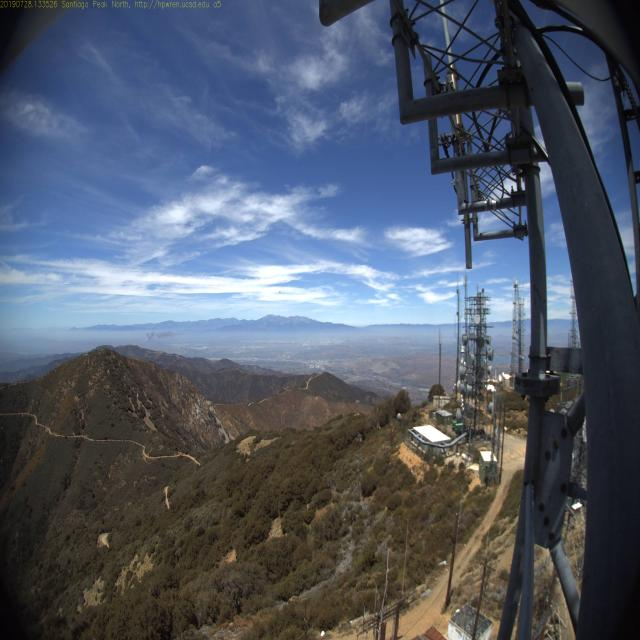smoke: (142, 321, 172, 353)
